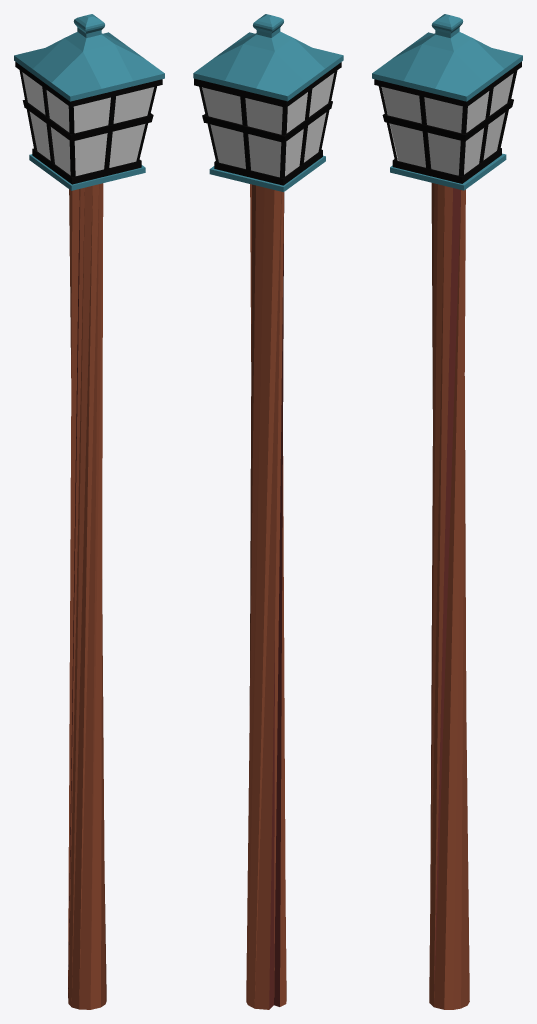
Rendered from small_light_post_pole.fbx.
3 renders of one model, left to right at view 1: azimuth 30°, elevation 25°; view 2: azimuth 150°, elevation 25°; view 3: azimuth 330°, elevation 25°, orthographic.
Parts seen in each view (by area): view 1: Cylinder, Cylinder.002, Plane.001, Cube.014; view 2: Cylinder, Cylinder.002, Plane.001, Cube.014; view 3: Cylinder, Cylinder.002, Plane.001, Cube.014.
Boxes of the visible parts, left/top/right/bottom form: Cylinder: left=68, top=183, right=106, bottom=1009; Cylinder.002: left=14, top=14, right=164, bottom=190; Plane.001: left=22, top=72, right=154, bottom=175; Cube.014: left=15, top=62, right=162, bottom=184; Cylinder: left=246, top=184, right=286, bottom=1009; Cylinder.002: left=193, top=14, right=343, bottom=192; Plane.001: left=202, top=73, right=334, bottom=177; Cube.014: left=194, top=62, right=341, bottom=185; Cylinder: left=429, top=183, right=469, bottom=1009; Cylinder.002: left=372, top=14, right=522, bottom=190; Plane.001: left=381, top=73, right=513, bottom=175; Cube.014: left=374, top=61, right=521, bottom=183.
Size of the model in its own units: 89 by 886 by 91.65.
